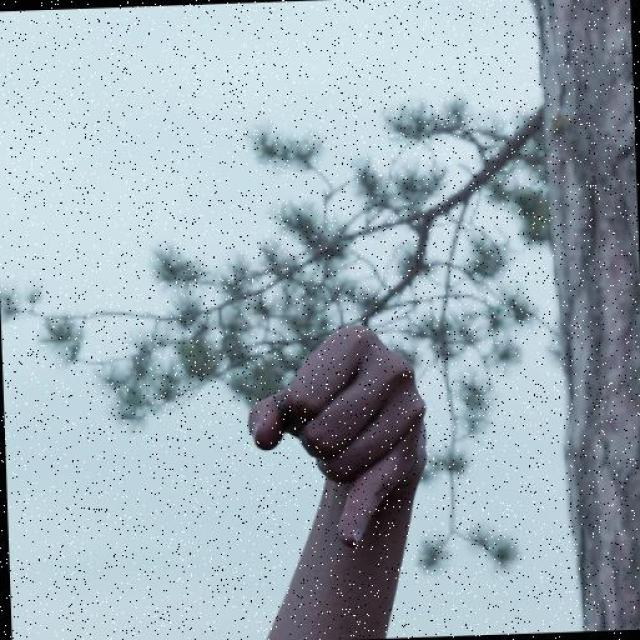J: (162, 278, 494, 618)
